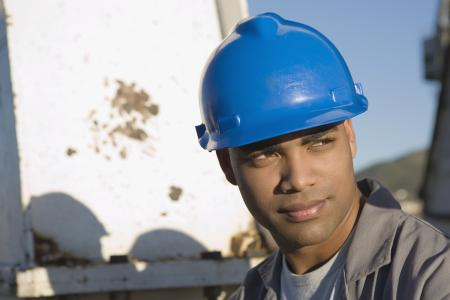hard-hat: (195, 11, 369, 152)
person: (195, 10, 450, 299)
